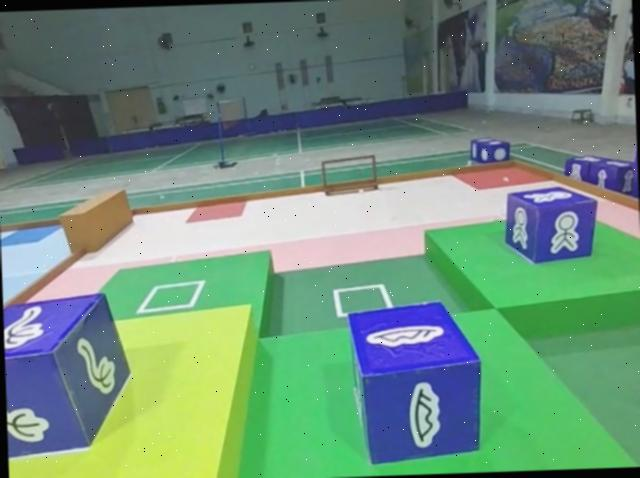R2 Real Blue: (345, 299, 486, 470), (2, 295, 136, 464), (504, 187, 603, 269), (563, 153, 636, 199), (629, 138, 640, 213)
